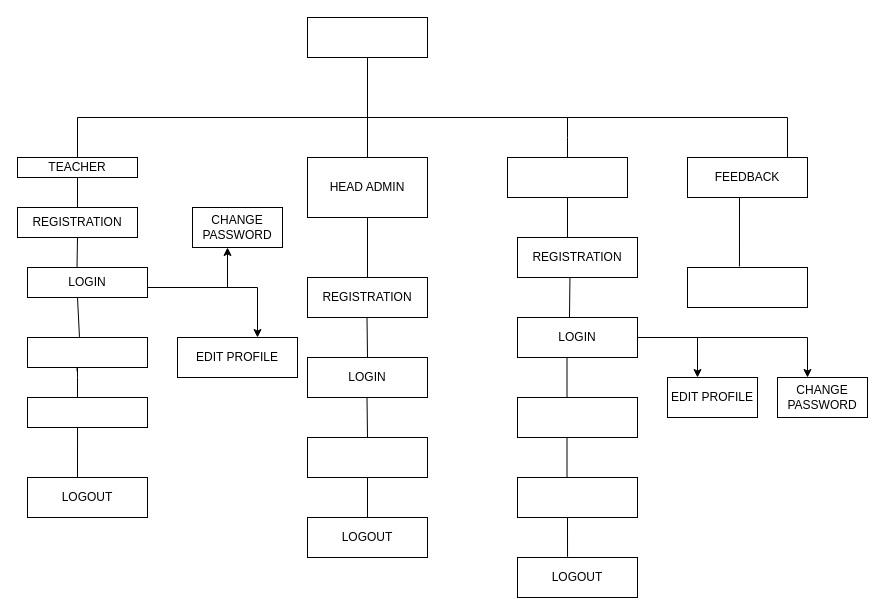
The diagram is 885 pixels wide and 615 high, and some of its shapes have lost their labels. The centre of each missing label's shape, as x and y in pixels:
"ATTEMPT TEST" belongs at (577,497).
"CREATE BATCH" belongs at (87,352).
"CREATE TEST" belongs at (87,412).
"HOME" belongs at (367,37).
"JOIN BATCH" belongs at (577,417).
"MIS REPORT" belongs at (367,457).
"STUDENT" belongs at (567,177).
"SUBMIT" belongs at (747,287).
